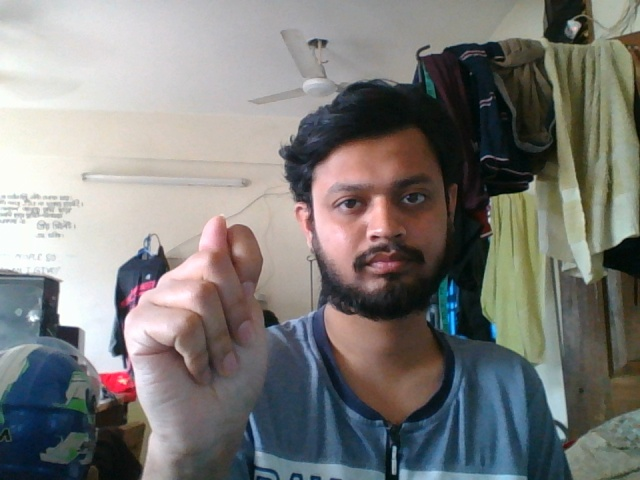ta: (123, 212, 278, 453)
